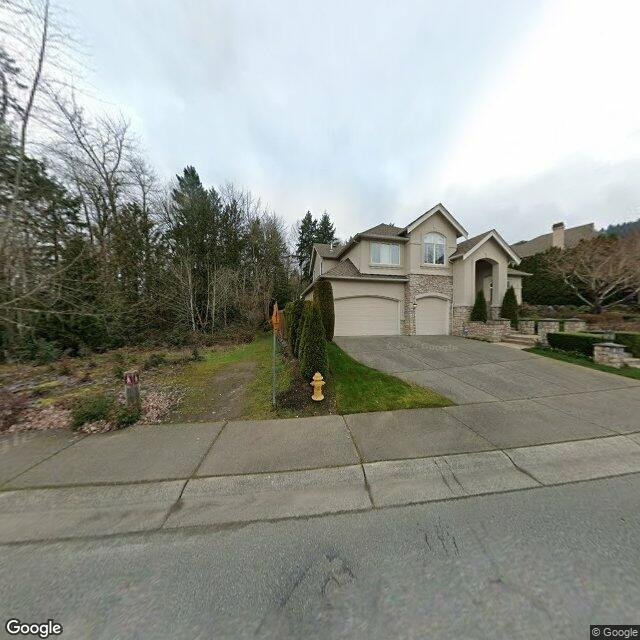hydrant: (308, 368, 332, 407)
